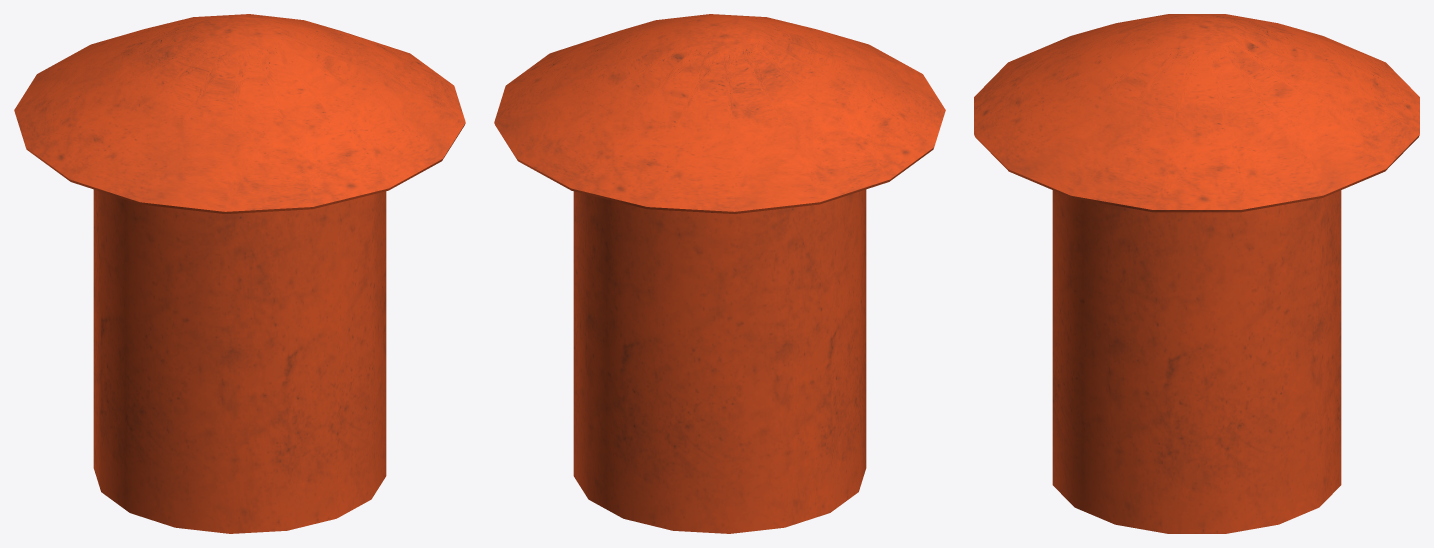
File: Iron Rod Cap_02.fbx
The picture shows the model from 3 angles, left to right: view 1: azimuth 30°, elevation 25°; view 2: azimuth 150°, elevation 25°; view 3: azimuth 270°, elevation 25°; orthographic projection.
Parts seen in each view (by area): view 1: Iron Rod Cap; view 2: Iron Rod Cap; view 3: Iron Rod Cap.
Part boxes in pixels (box(x1,y1,x2,y2)): Iron Rod Cap: box(14, 14, 465, 533); Iron Rod Cap: box(494, 14, 945, 533); Iron Rod Cap: box(974, 14, 1419, 533).
Bounding box in the file's own units: 2.47 × 2.71 × 2.47.
Materials: 1 (1 with a texture image).
